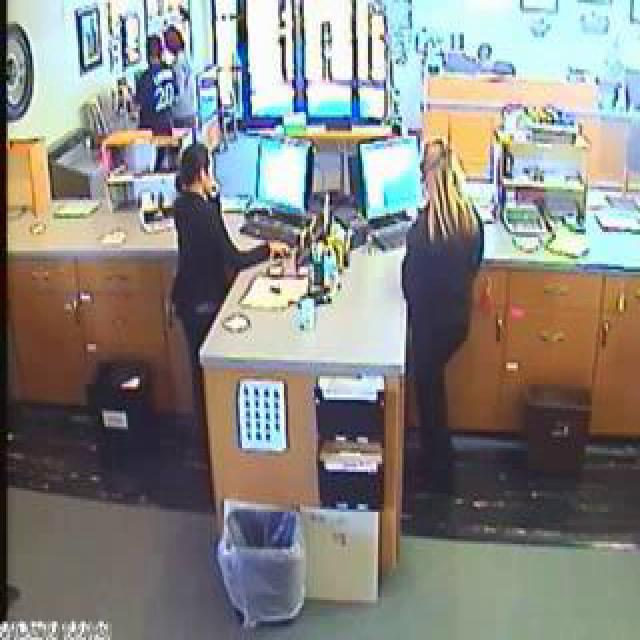robbery: (116, 78, 563, 372)
